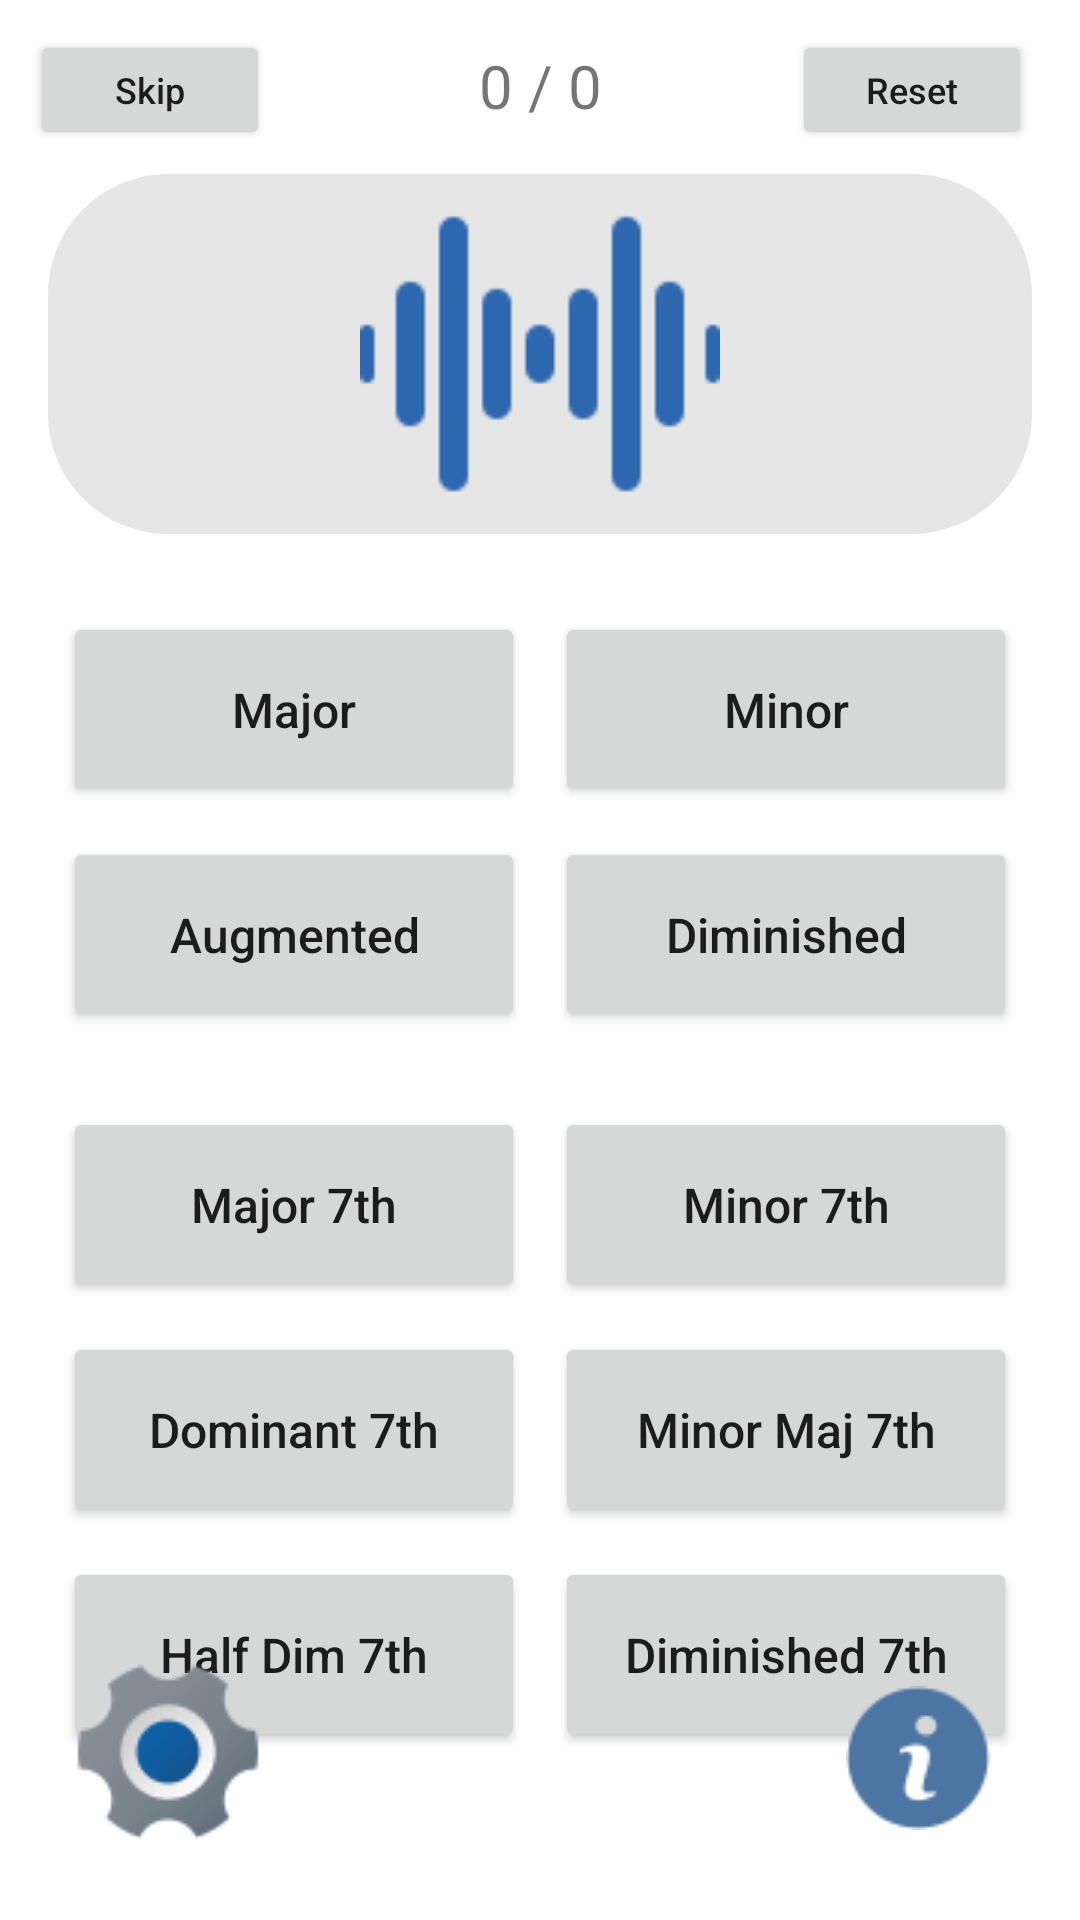

Point at icon controls on the screen. Image size 1080 × 1920, points as point (x, y).
info: point (918, 1758)
setting: point (175, 1741)
